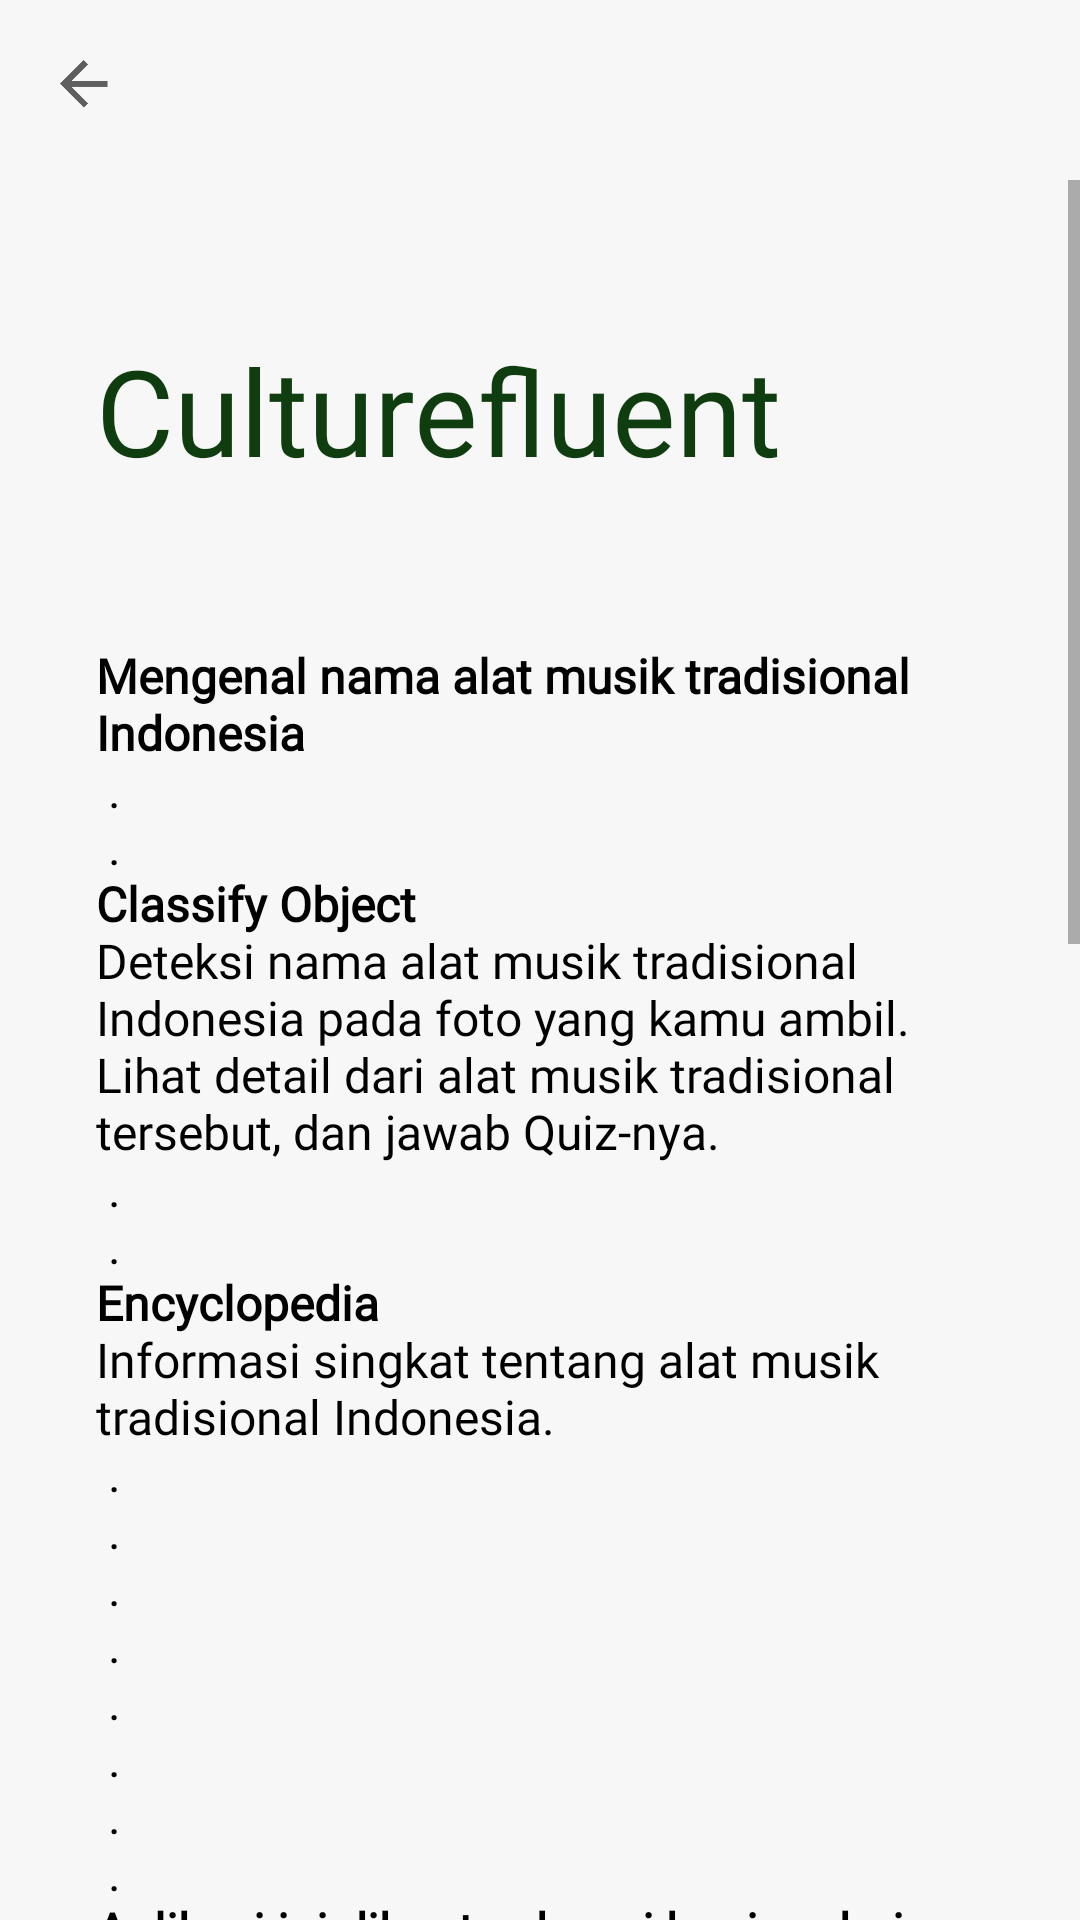

Screen size 1080 x 1920. Icon name, then its center in pixels as [x,y]:
back: [84,83]
